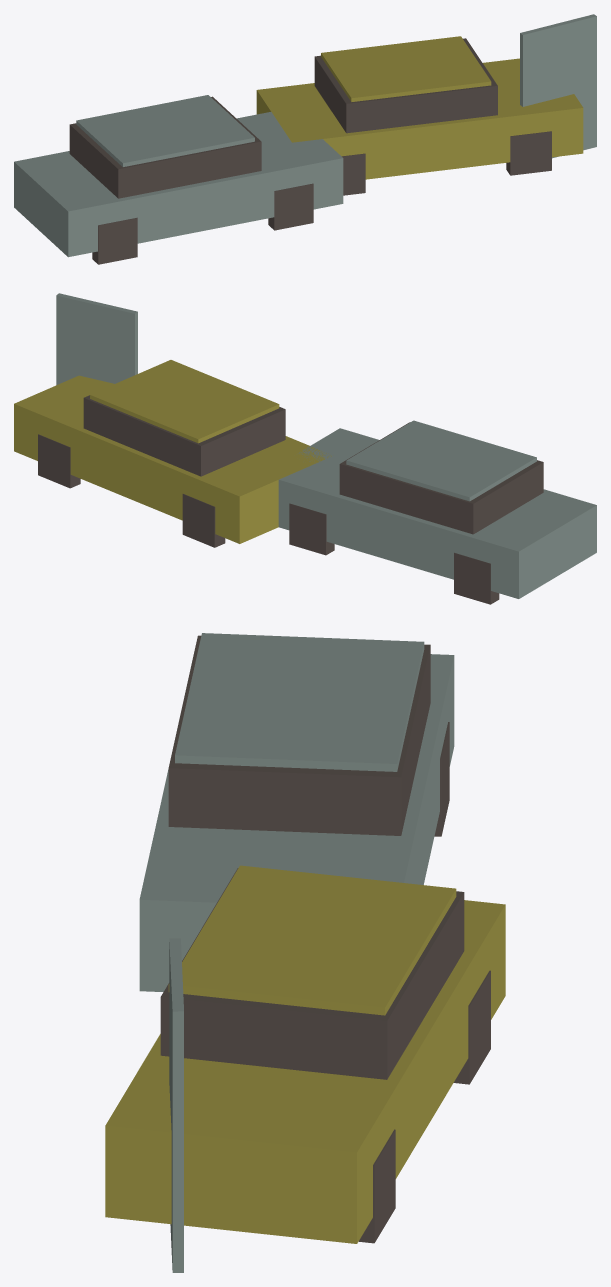
File: SM_BarricadaCivil_v0_Coches_e1_Danado_LOD0.fbx
3 renders of one model, top to bottom at view 1: azimuth 30°, elevation 25°; view 2: azimuth 150°, elevation 25°; view 3: azimuth 270°, elevation 25°, orthographic. The views are drawn at different scales.
Visible parts, largest first — view 1: SM_barricada_civil_v1_LOD0; view 2: SM_barricada_civil_v1_LOD0; view 3: SM_barricada_civil_v1_LOD0.
Part boxes in pixels (<box>): SM_barricada_civil_v1_LOD0: <box>14,14,596,264</box>; SM_barricada_civil_v1_LOD0: <box>14,293,596,604</box>; SM_barricada_civil_v1_LOD0: <box>105,633,505,1272</box>.
Bounding box in the file's own units: 8.38 × 2 × 2.78.
